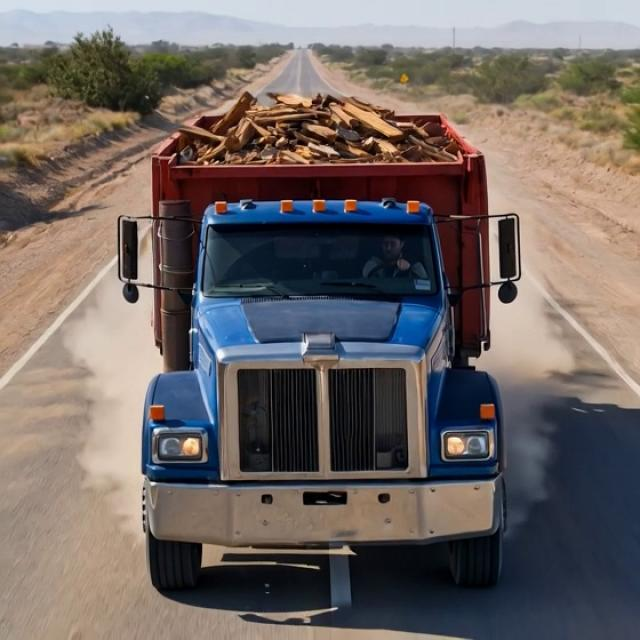trailer: (144, 96, 498, 172)
truck: (82, 65, 527, 588)
